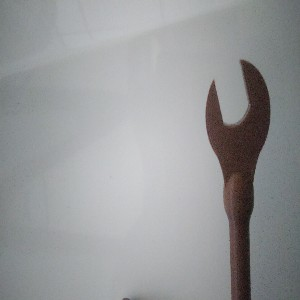spanner: (205, 58, 271, 300)
